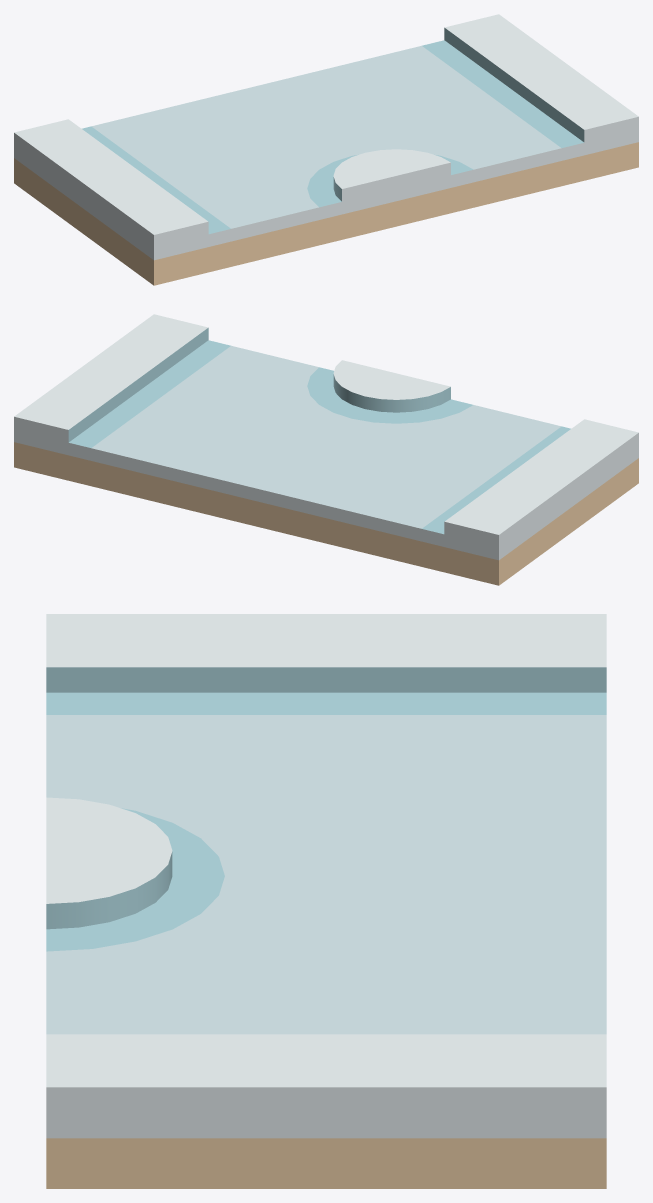
Rendered from snow_tile_wideSplit.glb.
3 renders of one model, top to bottom at view 1: azimuth 30°, elevation 25°; view 2: azimuth 150°, elevation 25°; view 3: azimuth 270°, elevation 25°, orthographic. The views are drawn at different scales.
Parts seen in each view (by area): view 1: snow_tile_wideSplit; view 2: snow_tile_wideSplit; view 3: snow_tile_wideSplit.
Part boxes in pixels (x1,y1,x2,y2): snow_tile_wideSplit: (14, 14, 638, 285); snow_tile_wideSplit: (14, 314, 638, 585); snow_tile_wideSplit: (46, 614, 606, 1188).
Size of the model in its own units: 2 by 0.2 by 1.
